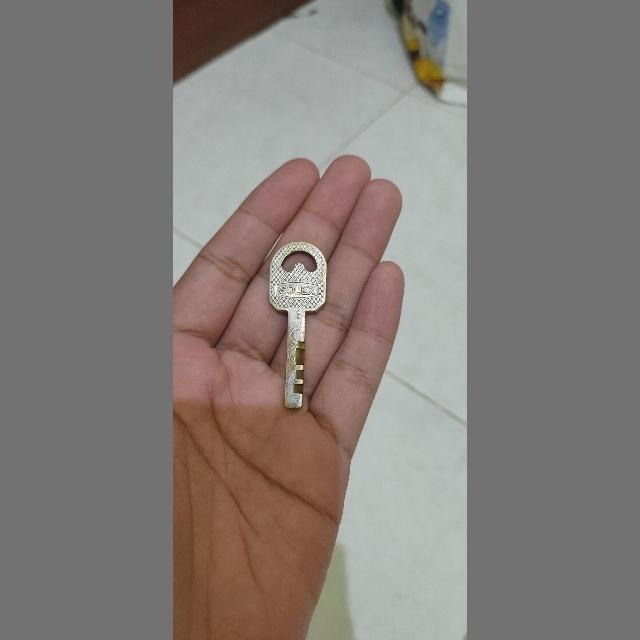Keys: (264, 236, 332, 428)
